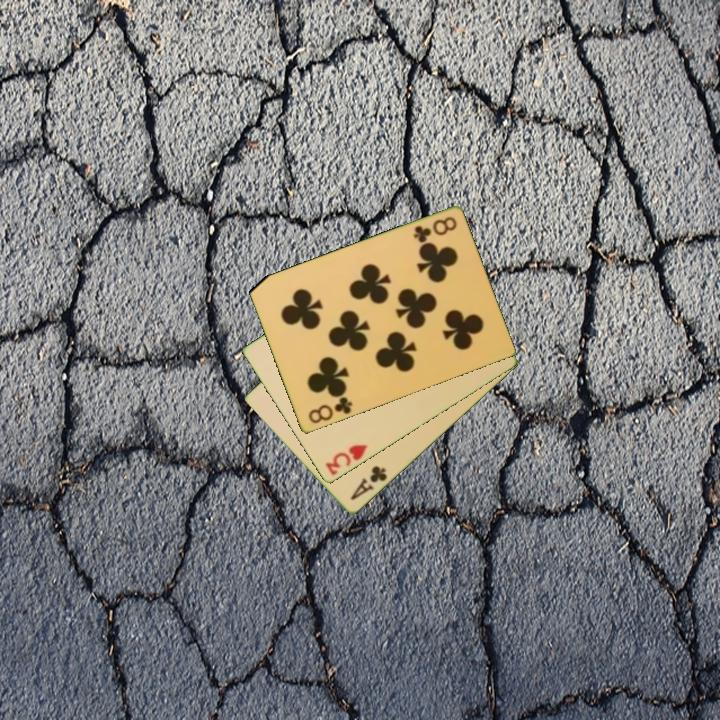3h: (322, 441, 370, 479)
8c: (305, 393, 355, 427), (410, 213, 459, 246)
Ac: (347, 462, 390, 504)
